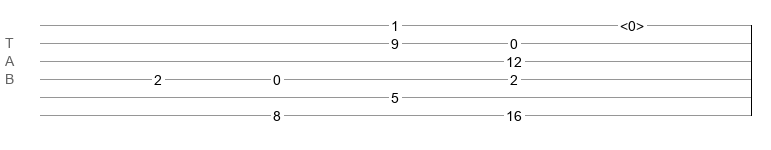0: (273, 72, 281, 82), (510, 36, 518, 46)
1: (391, 18, 399, 28)
12: (506, 54, 522, 64)
16: (506, 108, 522, 118)
2: (154, 72, 162, 82), (510, 72, 518, 82)
5: (391, 90, 399, 100)
8: (273, 108, 281, 118)
9: (391, 36, 399, 46)
harmonic: (620, 18, 644, 28)
